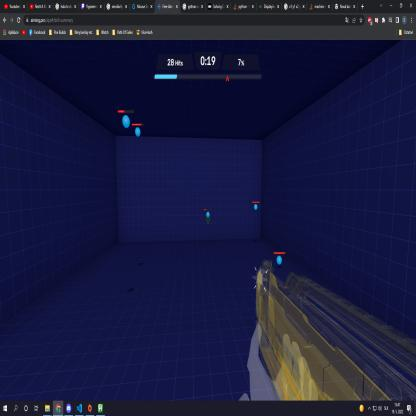sphere: (121, 114, 130, 128), (134, 127, 141, 137), (276, 255, 282, 265), (254, 204, 258, 211), (206, 212, 210, 219)
